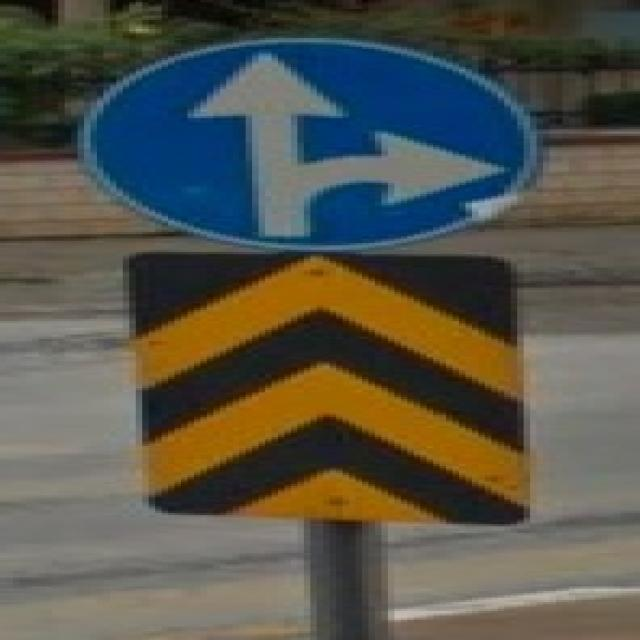Straight or Right: (76, 39, 535, 248)
